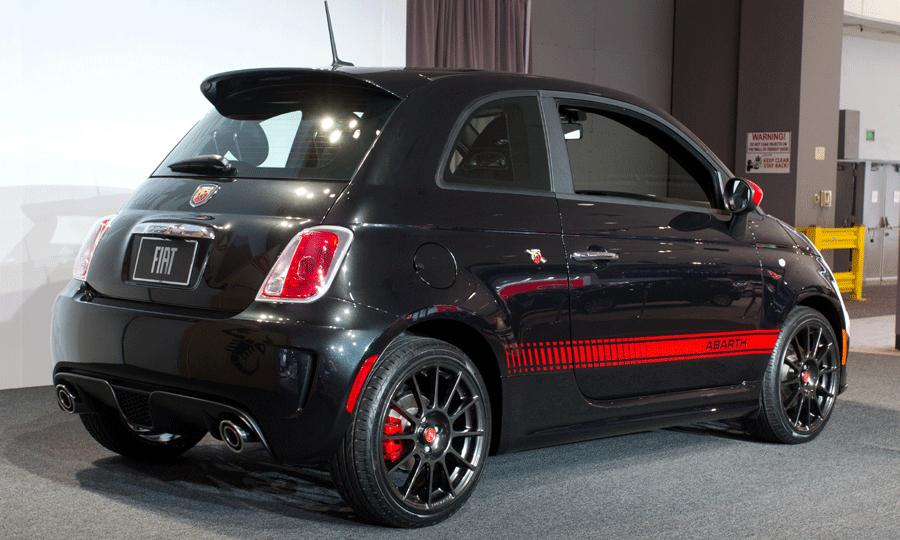Car: (23, 30, 887, 539)
